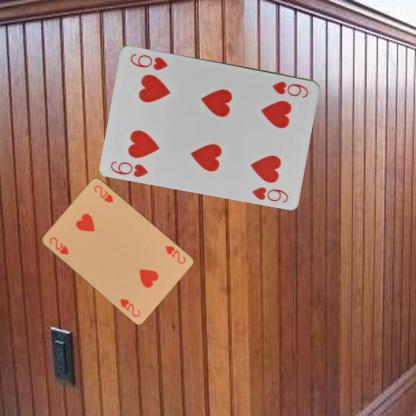2h: (162, 243, 187, 265), (47, 234, 69, 256)
6h: (108, 158, 150, 178), (270, 78, 310, 98)
